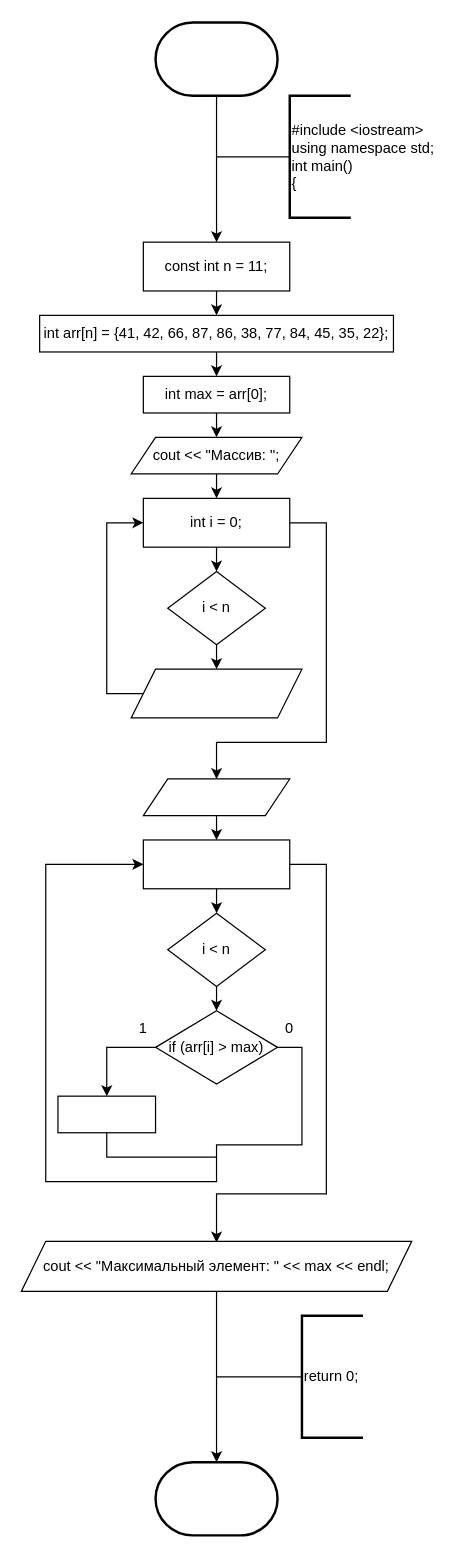
The diagram is 456 pixels wide and 1557 high, and some of its shapes have lost their labels. The shapes that lost their labels are listed below. From the top down, each one's box as (x1, y1, x2, y2) in pixels, then its label:
(154, 21, 278, 96): Начало
(130, 668, 302, 718): cout << arr[i] << " ";
(142, 778, 290, 816): cout << endl;
(142, 839, 290, 889): int i = 1;
(57, 1095, 156, 1133): max = arr[i];
(154, 1460, 278, 1536): Конец
